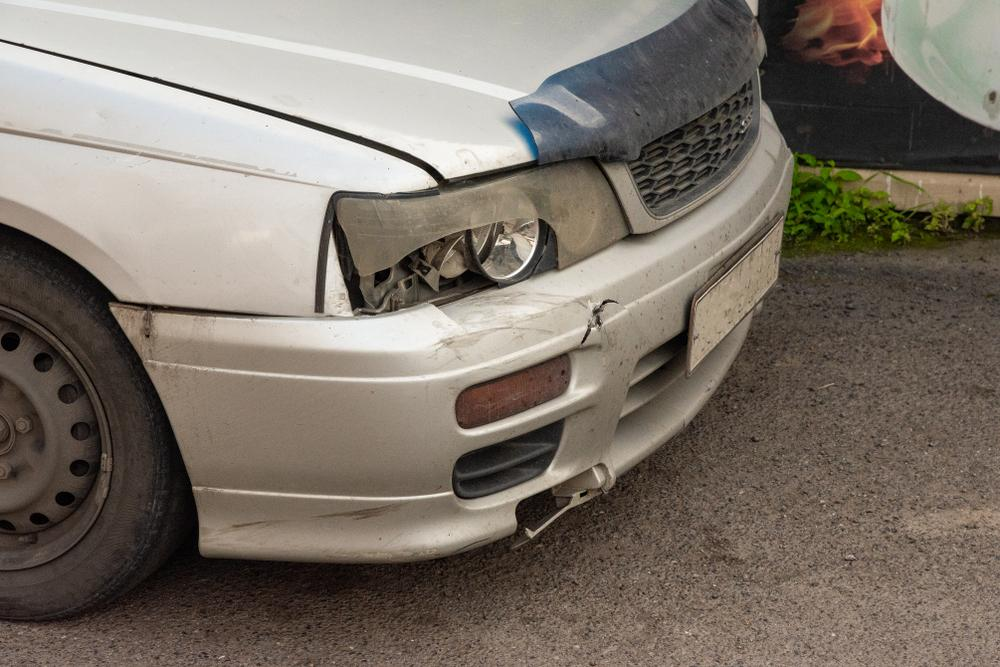crack: (578, 297, 621, 351)
lamp broken: (321, 159, 630, 316)
scratch: (202, 499, 441, 557), (435, 288, 583, 354)
